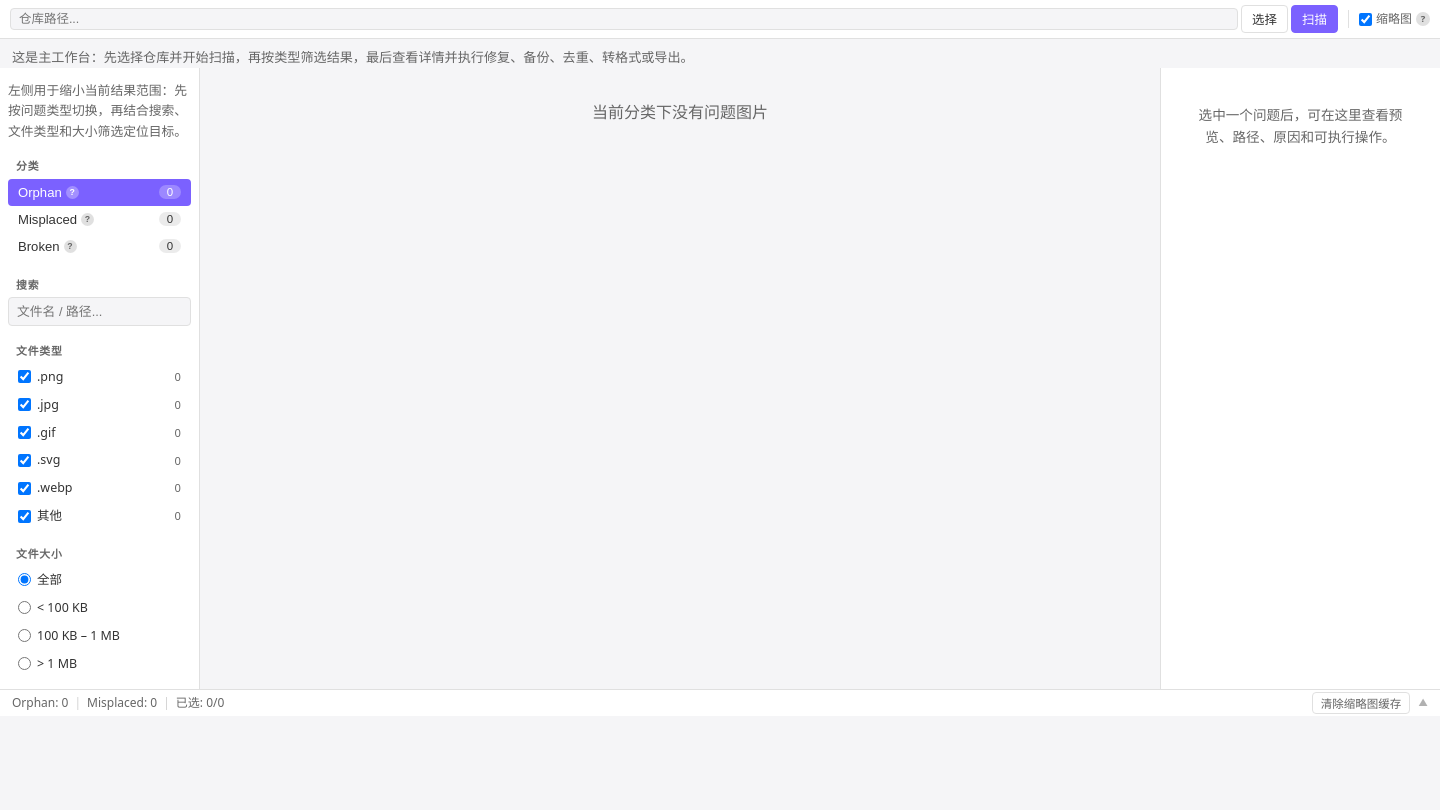
Test case: choosing directory fills vault path input
Click the button "选择".
click(1265, 19)  # box [1241,5,1288,33]
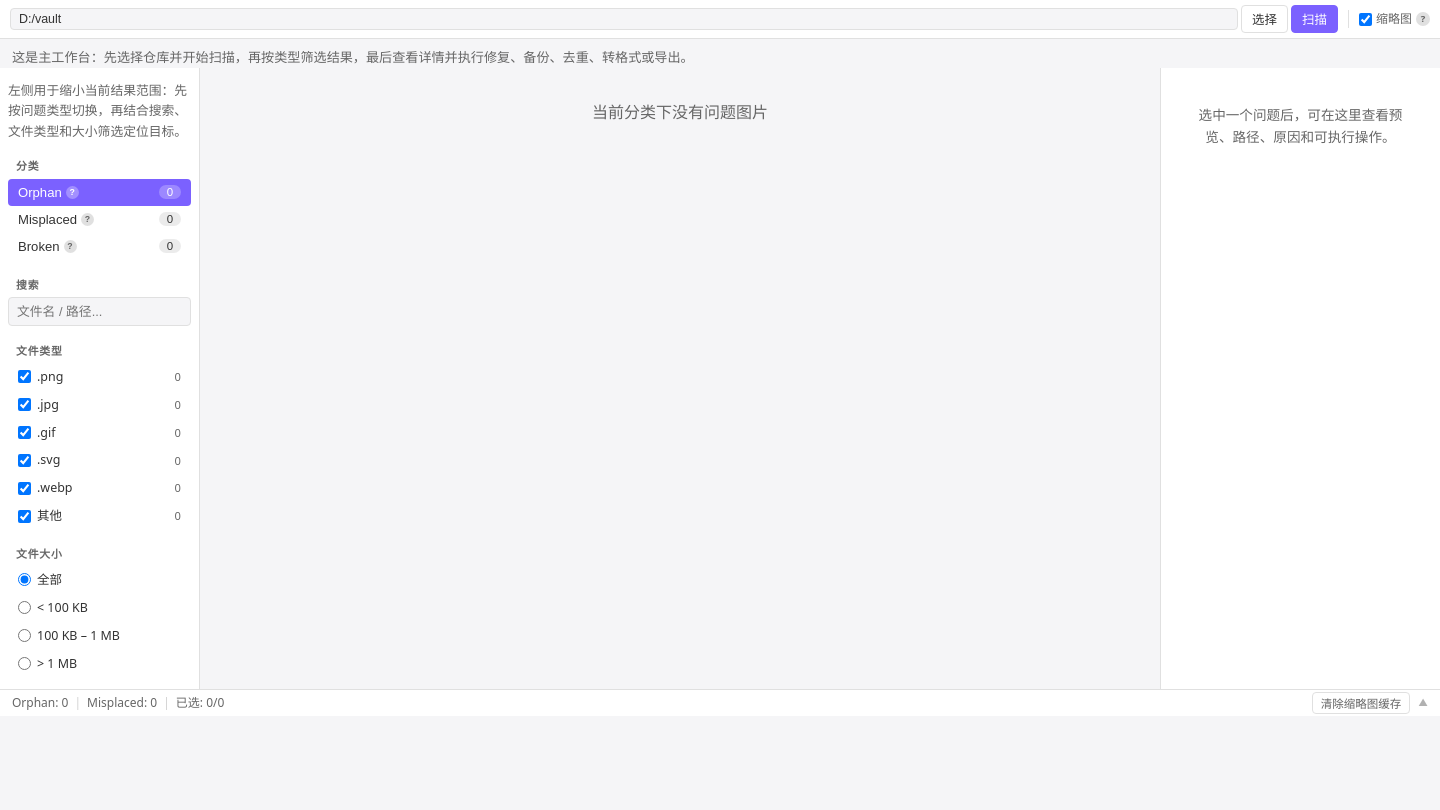
Result: the field named "仓库路径" holds "D:/vault" at [10,8,1238,30]
